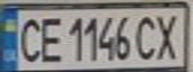1: (63, 12, 84, 62), (81, 12, 100, 62)
4: (97, 12, 118, 62)
6: (112, 11, 136, 61)
C: (12, 13, 45, 64), (133, 11, 160, 61)
E: (36, 12, 66, 64)
X: (151, 10, 184, 61)
